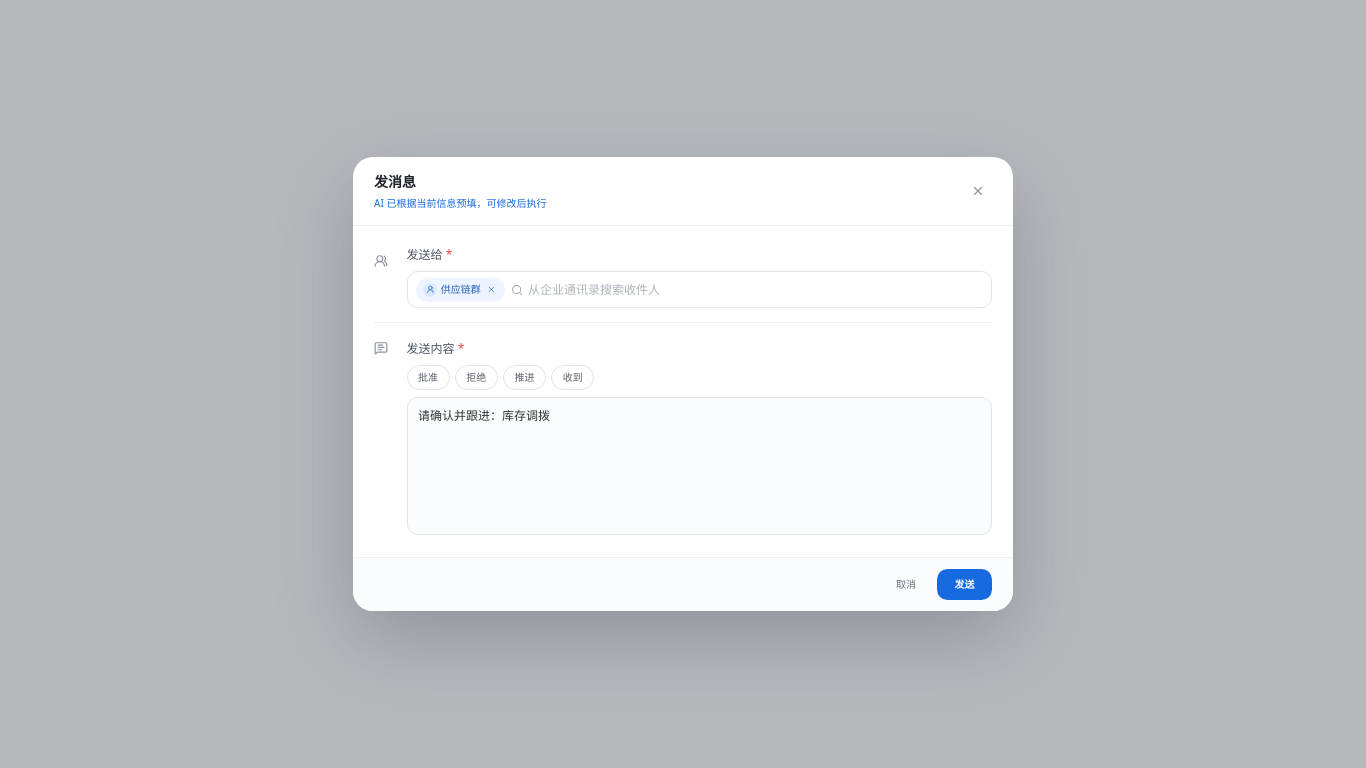
DigestActionDialog › searches and selects a recipient from the enterprise address book
This screenshot has width=1366, height=768.
Type "李娜" into the field with test id "message-recipient-input" at (755, 290), box [528,278,982,302]
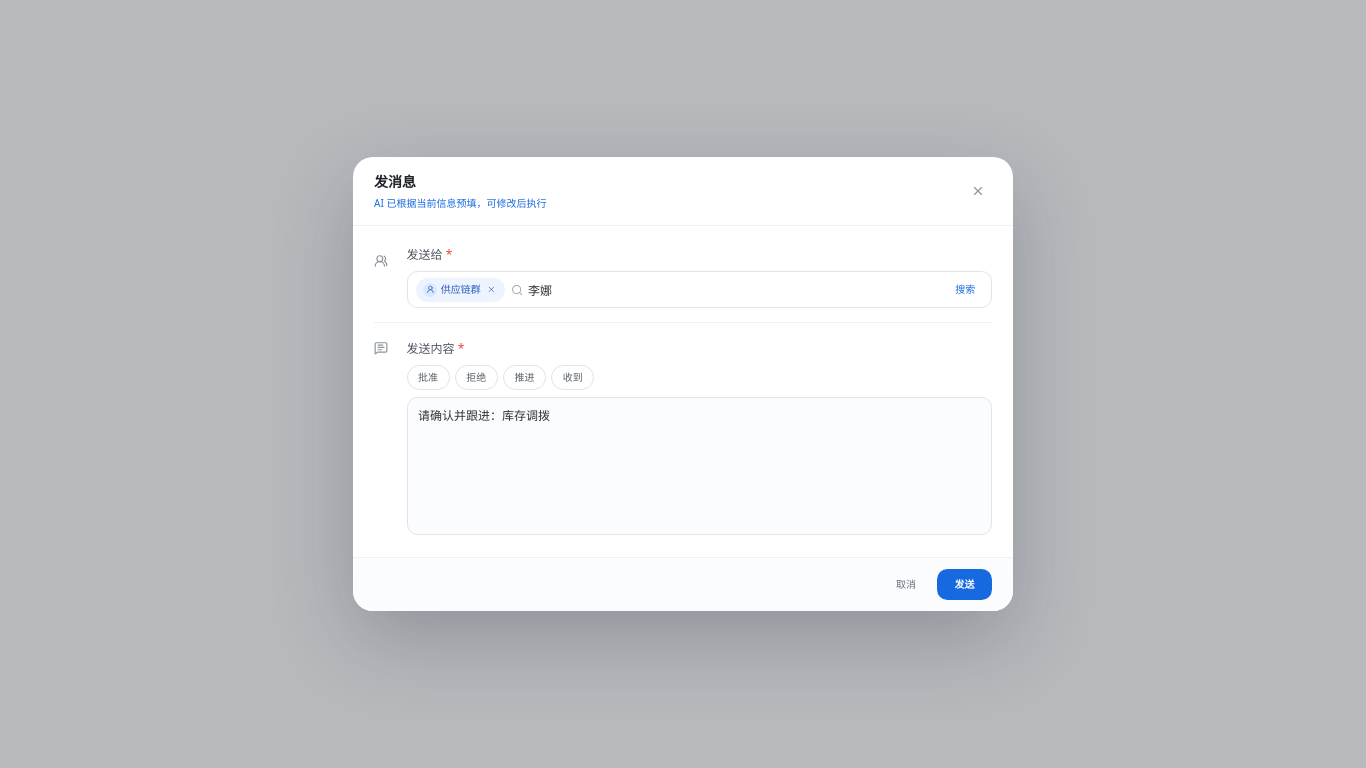
Press Enter in the field with test id "message-recipient-input", box [528,278,943,302]
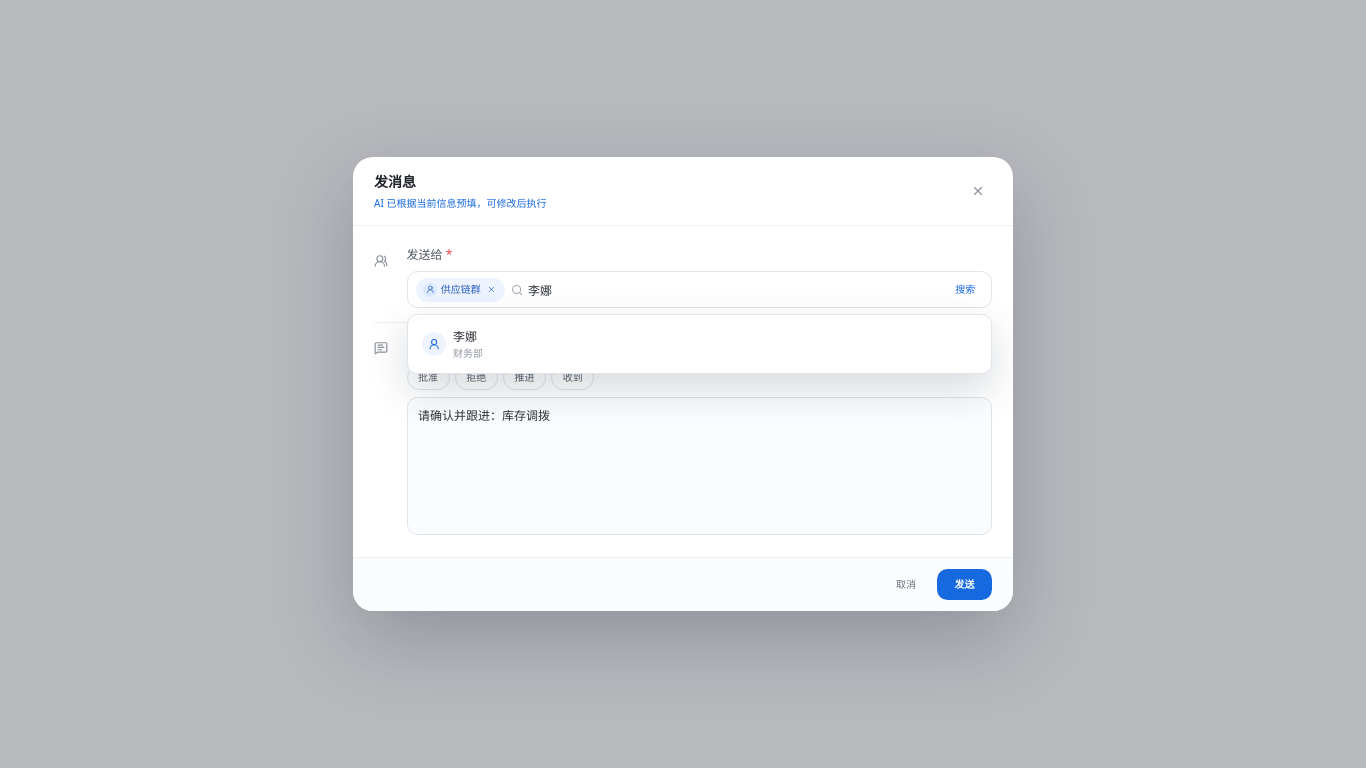
Click the button "李娜 财务部" at (434, 344), box [413,320,986,368]
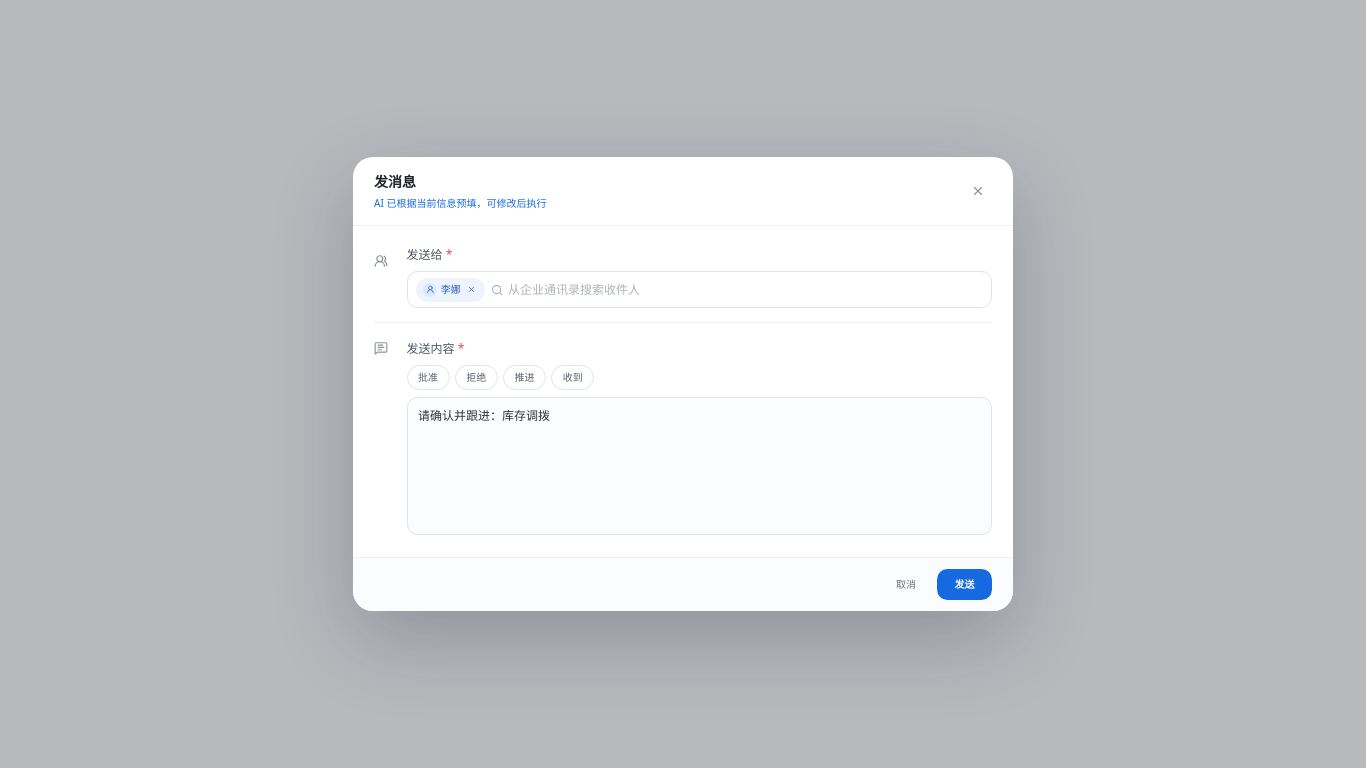
Now the element with test id "message-recipient" reads "李娜", box [441,282,461,296]
